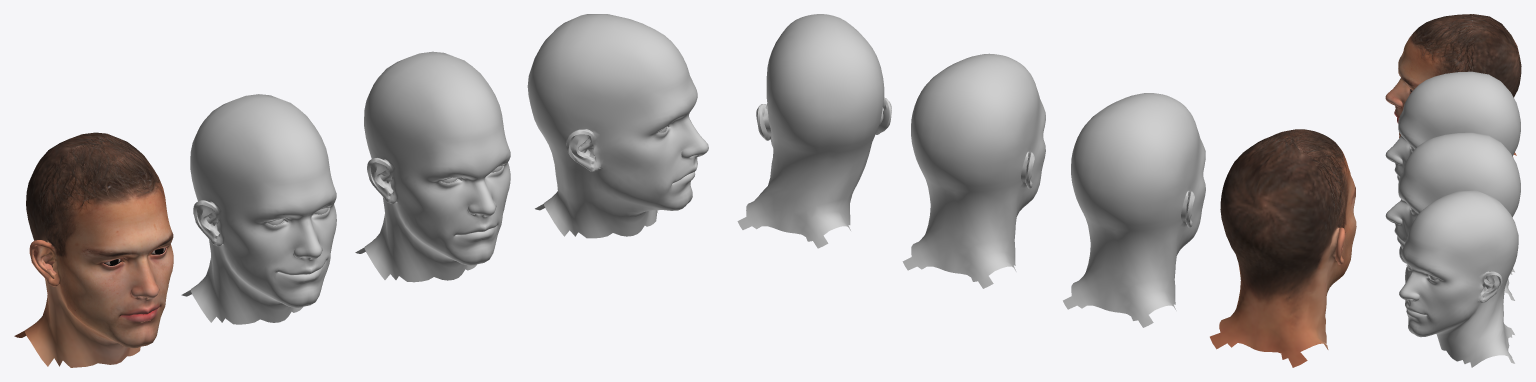
Rendered from Challenge_Face_Morph.FBX.
3 views of the same model, side by side, from view 1: azimuth 30°, elevation 25°; view 2: azimuth 150°, elevation 25°; view 3: azimuth 270°, elevation 25° (orthographic). The views are drawn at different scales.
Parts seen in each view (by area): view 1: Face_Morph_003, Face_base_001, Face_Morph_001, Face_Morph_002; view 2: Face_base_001, Face_Morph_001, Face_Morph_002, Face_Morph_003; view 3: Face_Morph_003, Face_Morph_002, Face_Morph_001, Face_base_001.
Part boxes in pixels (x1,y1,x2,y2): Face_Morph_003: [527, 14, 708, 238]; Face_base_001: [14, 132, 173, 367]; Face_Morph_001: [181, 94, 336, 324]; Face_Morph_002: [355, 51, 510, 282]; Face_base_001: [1210, 129, 1356, 367]; Face_Morph_001: [1063, 93, 1205, 327]; Face_Morph_002: [902, 53, 1045, 288]; Face_Morph_003: [737, 14, 891, 248]; Face_Morph_003: [1399, 190, 1518, 367]; Face_Morph_002: [1385, 132, 1520, 300]; Face_Morph_001: [1385, 71, 1520, 180]; Face_base_001: [1385, 14, 1521, 157].
Size of the model in its own units: 88.34 by 28.53 by 22.69.
